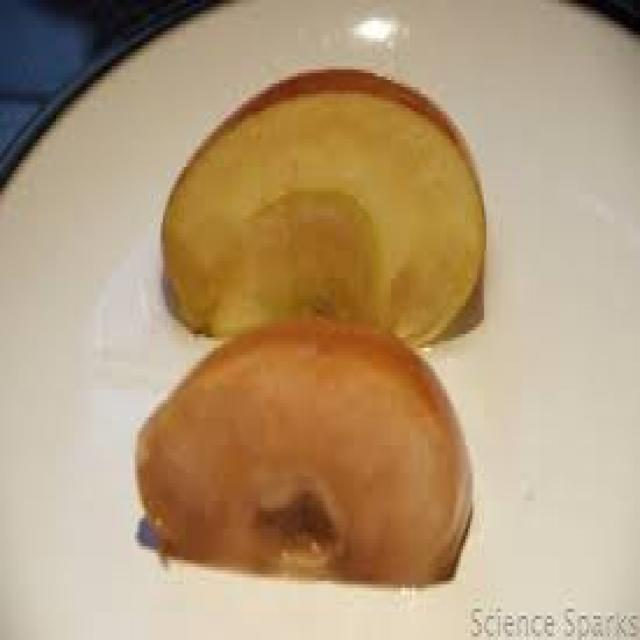organic waste: (158, 66, 484, 344), (133, 313, 470, 581)
